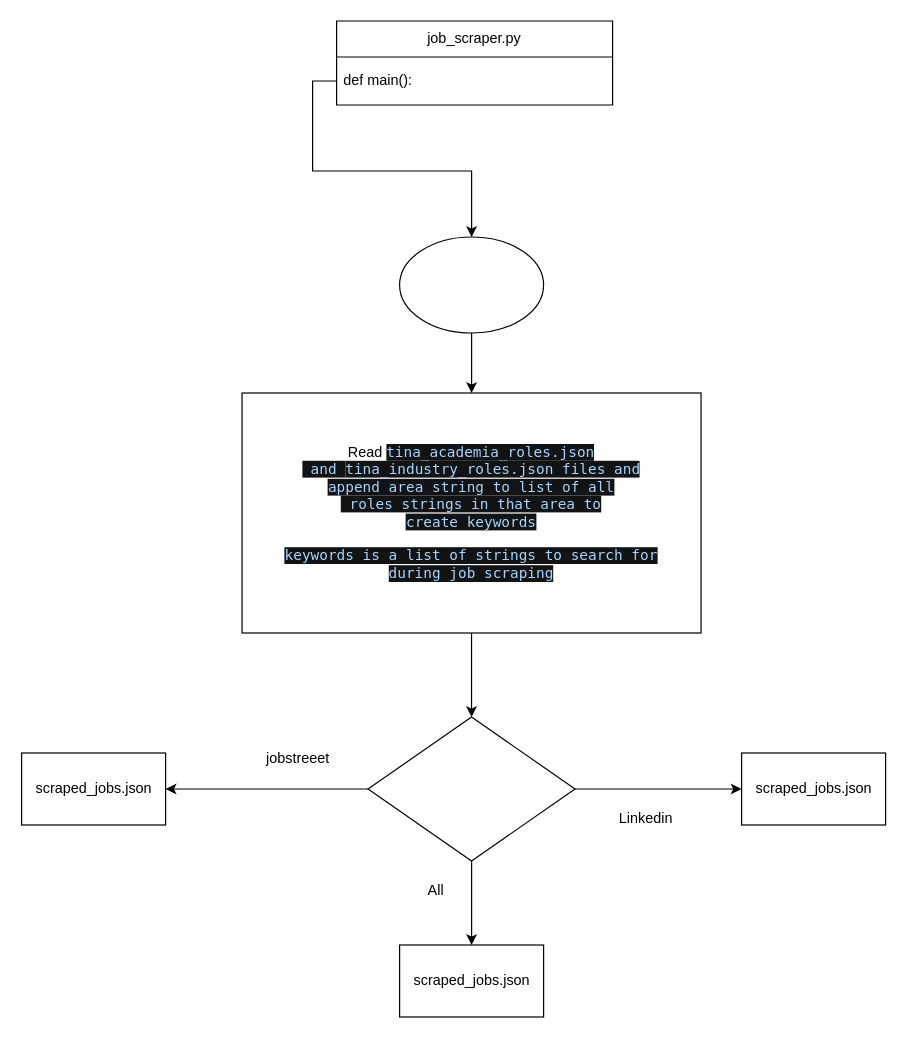
Image size: 906x1038. Some labels were removed from this diagram. The centre of each missing label's shape, as x and y in pixels:
"if source = jobstreet" belongs at point 471,788.
"keywords = load_keywords()" belongs at point 471,284.
